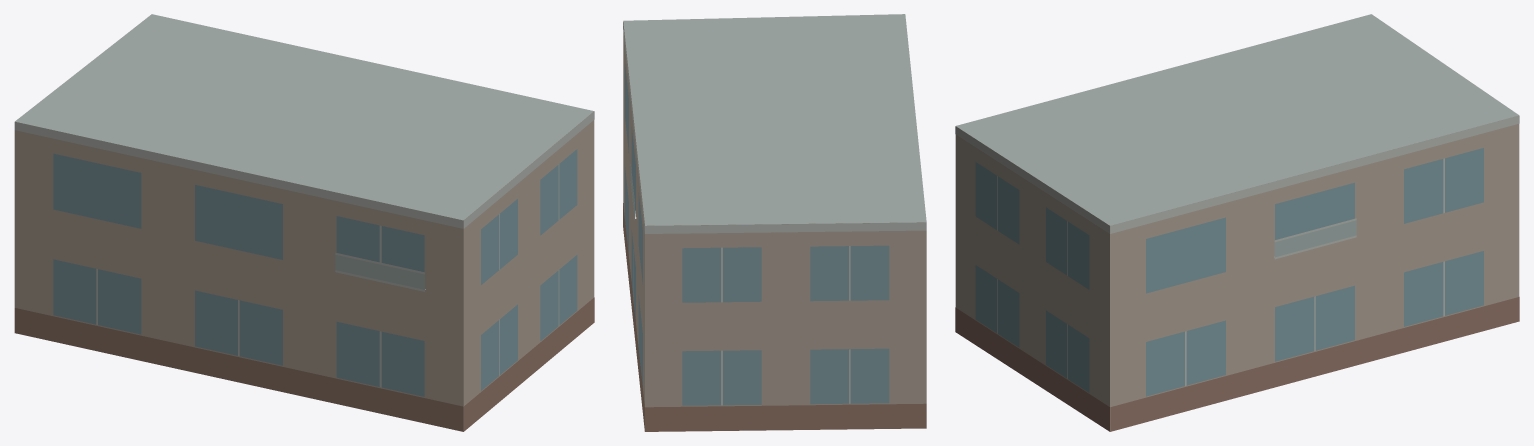
File: survey-upis-32619283.glb
The picture shows the model from 3 angles, left to right: view 1: azimuth 30°, elevation 25°; view 2: azimuth 150°, elevation 25°; view 3: azimuth 270°, elevation 25°; orthographic projection. The views are drawn at different scales.
Parts seen in each view (by area): view 1: survey-upis-32619283.tmp; view 2: survey-upis-32619283.tmp; view 3: survey-upis-32619283.tmp.
Boxes of the visible parts, x1,y1,x2,y2 form: survey-upis-32619283.tmp: (14, 14, 594, 431); survey-upis-32619283.tmp: (623, 14, 926, 431); survey-upis-32619283.tmp: (955, 14, 1519, 431).
Bounding box in the file's own units: 13.46 × 6.1 × 15.15.
